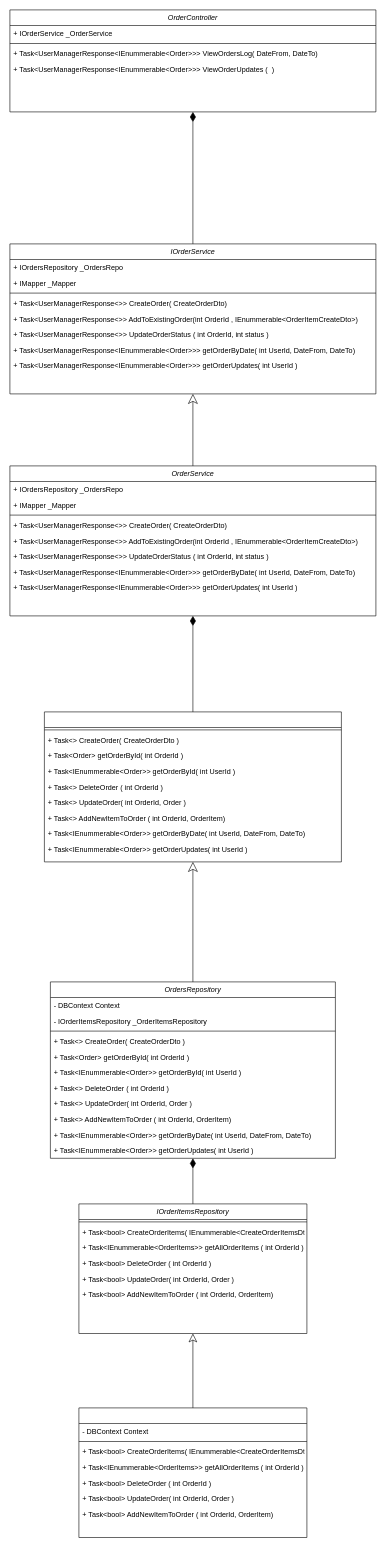
Some shapes in this 386 by 1547 pixel diagram are drawn without their labels. The shapes that lost their labels are listed below. From the top down, each one's box as (x1, y1, x2, y2) in pixels, then its label:
(44, 711, 341, 862): iOrdersRepository
(78, 1407, 307, 1538): OrderItemsRepository
